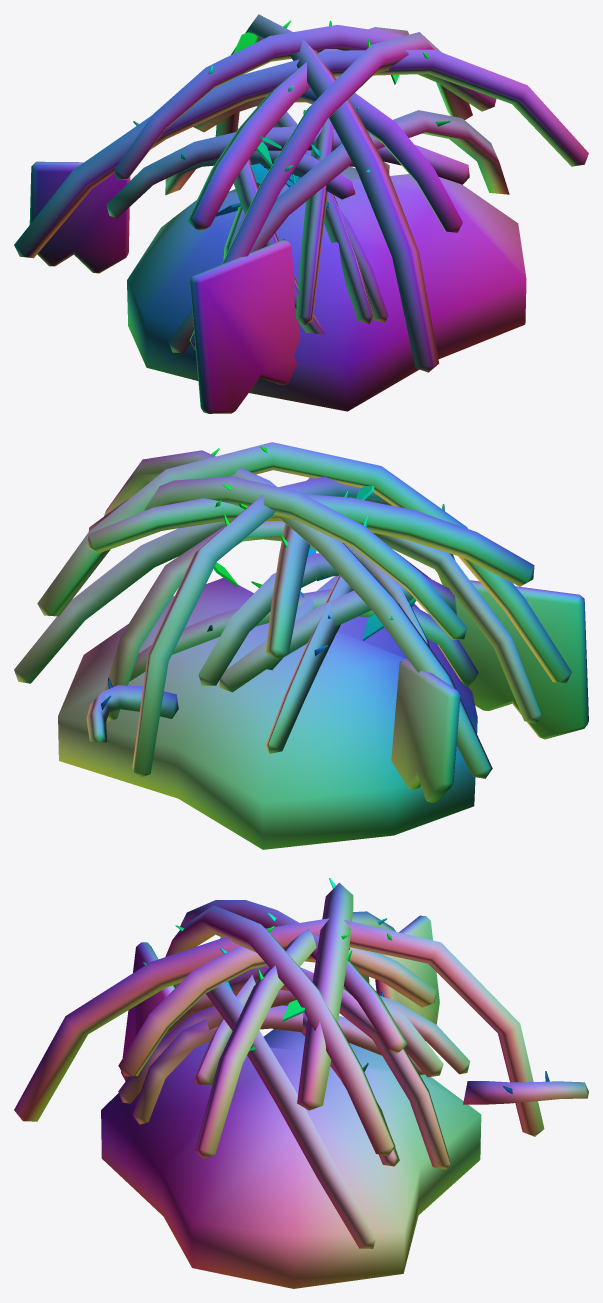
File: SM_Foliage_March_Briar_A.fbx
3 views of the same model, one above another, from view 1: azimuth 30°, elevation 25°; view 2: azimuth 150°, elevation 25°; view 3: azimuth 270°, elevation 25° (orthographic). The views are drawn at different scales.
Visible parts, largest first — view 1: SM_Foliage_March_Briar_A; view 2: SM_Foliage_March_Briar_A; view 3: SM_Foliage_March_Briar_A.
Boxes of the visible parts, box(x1,y1,x2,y2) form: SM_Foliage_March_Briar_A: box(14, 14, 588, 413); SM_Foliage_March_Briar_A: box(14, 442, 588, 849); SM_Foliage_March_Briar_A: box(14, 878, 588, 1288).
Bounding box in the file's own units: 1 × 0.5825 × 1.06.
